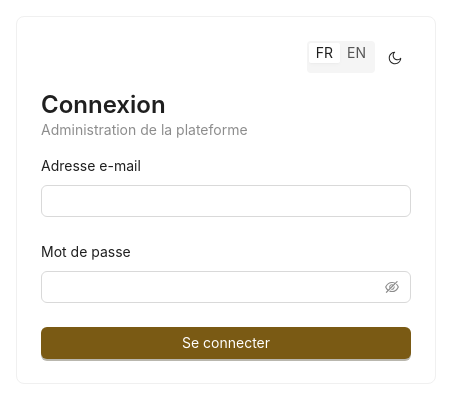
Test: admin shell › validates the login form without calling an API
Click the button "Se connecter": (226, 343) [41, 327, 411, 359]
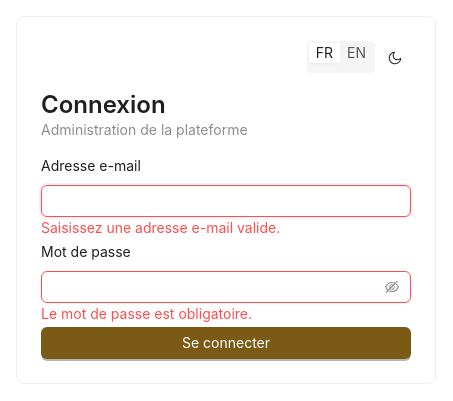
Expected: the text "Saisissez une adresse e-mail valide." is shown, [41, 219, 280, 236]
